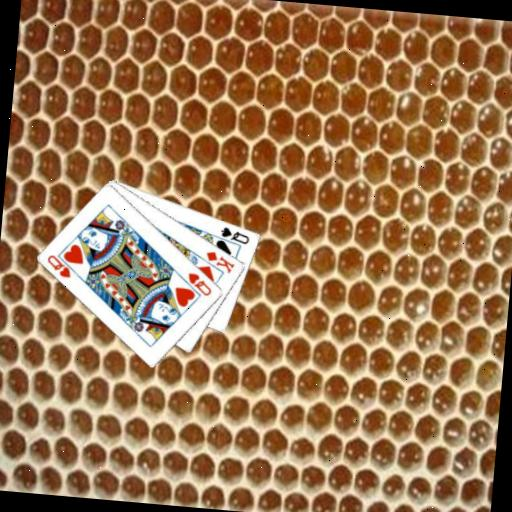KD: (202, 248, 238, 276)
QH: (43, 250, 82, 281), (184, 269, 215, 298)
QS: (217, 224, 252, 247)
